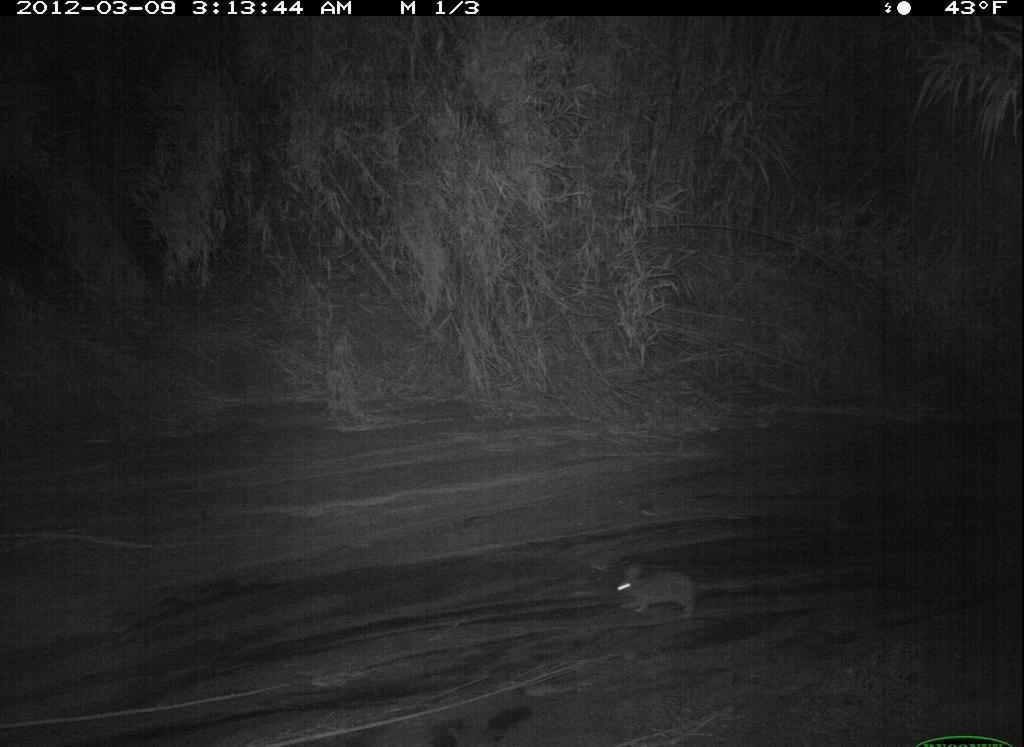rabbit: (601, 546, 703, 632)
